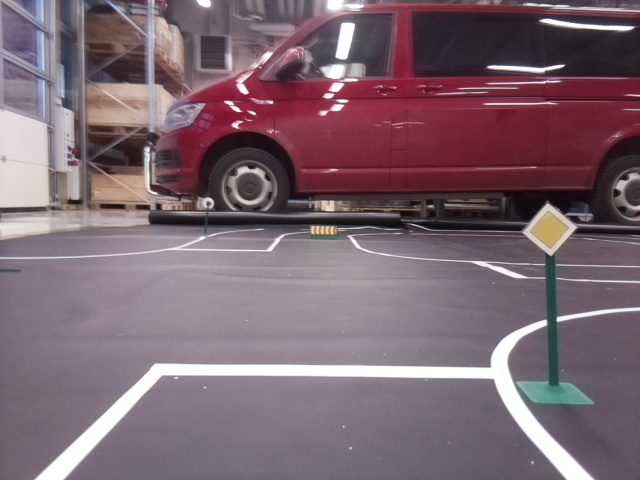Priority: (521, 201, 577, 256)
